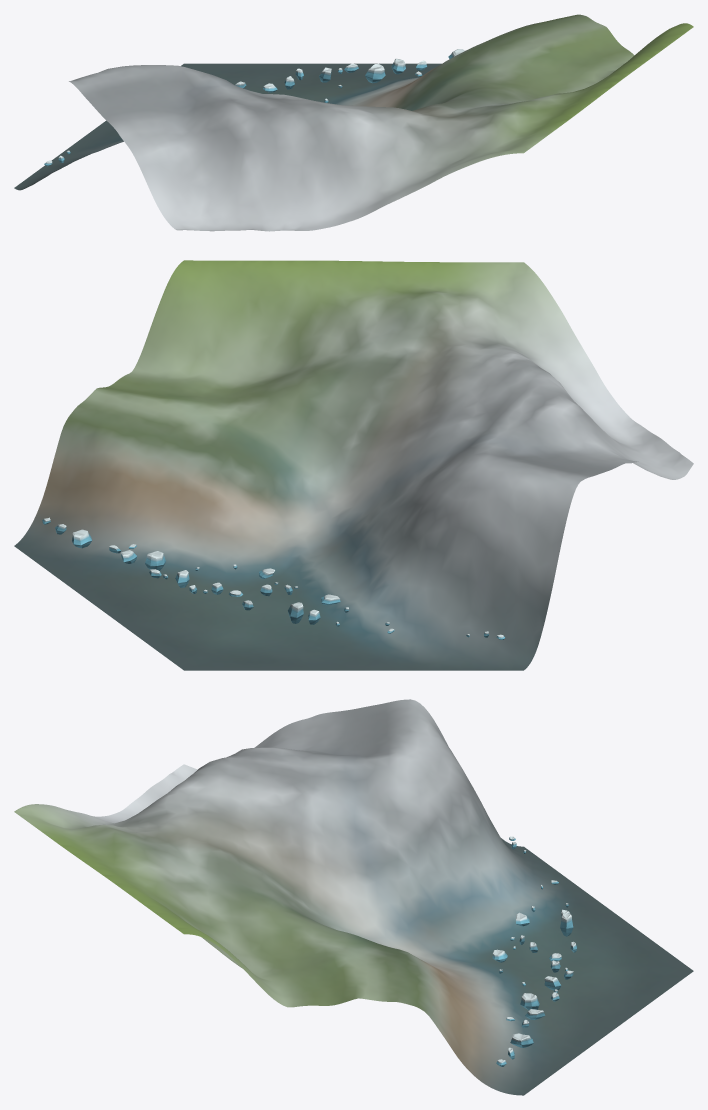
File: costa_+07_-09.glb
The picture shows the model from 3 angles, top to bottom: view 1: azimuth 30°, elevation 25°; view 2: azimuth 150°, elevation 25°; view 3: azimuth 270°, elevation 25°; orthographic projection.
Parts seen in each view (by area): view 1: terrain, Formações costeiras; view 2: terrain, Formações costeiras; view 3: terrain, Formações costeiras.
Boxes of the visible parts, <box> form: terrain: <box>14,14,693,231</box>; Formações costeiras: <box>44,49,464,166</box>; terrain: <box>14,260,693,670</box>; Formações costeiras: <box>42,517,504,639</box>; terrain: <box>14,699,693,1095</box>; Formações costeiras: <box>492,836,576,1066</box>.
Bounding box in the file's own units: 4330 × 1310 × 5000.
1 material, 1 textured.
